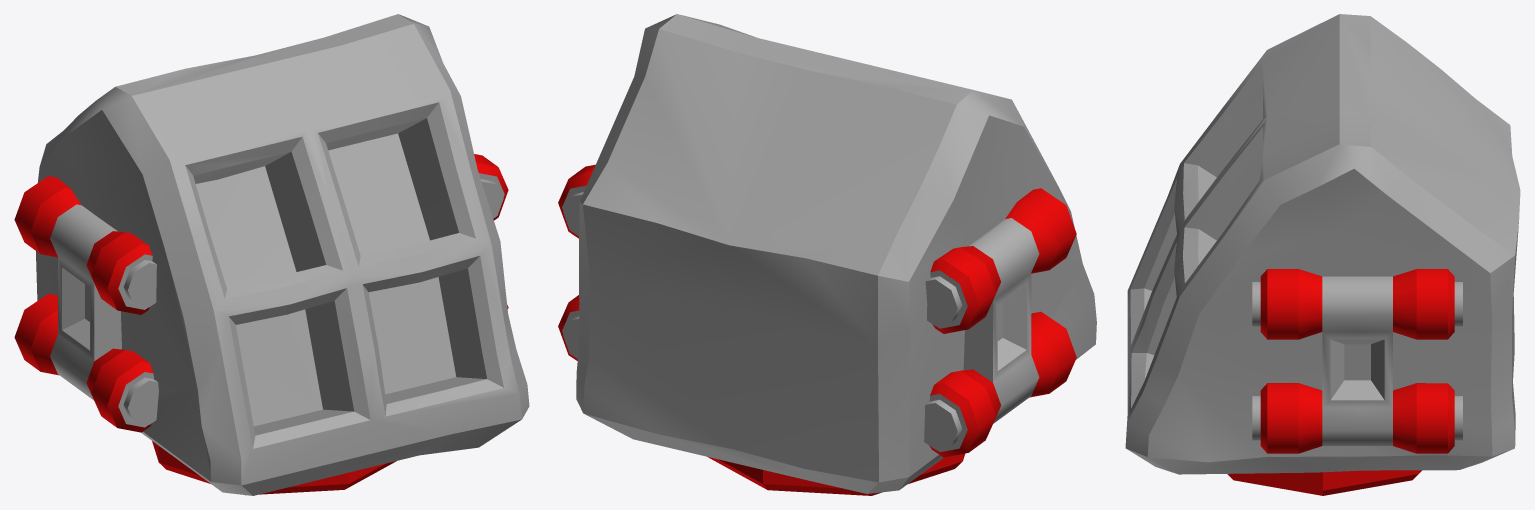
The model's file is Enemy_TurretQuad_Body.fbx.
The picture shows the model from 3 angles, left to right: view 1: azimuth 30°, elevation 25°; view 2: azimuth 150°, elevation 25°; view 3: azimuth 270°, elevation 25°; orthographic projection. The views are drawn at different scales.
Parts seen in each view (by area): view 1: Enemy_Turret_Quad_body; view 2: Enemy_Turret_Quad_body; view 3: Enemy_Turret_Quad_body.
Part boxes in pixels (<box>): Enemy_Turret_Quad_body: <box>14,14,529,495</box>; Enemy_Turret_Quad_body: <box>558,14,1096,495</box>; Enemy_Turret_Quad_body: <box>1125,14,1520,495</box>.
Size of the model in its own units: 4.12 by 3.7 by 3.62.
